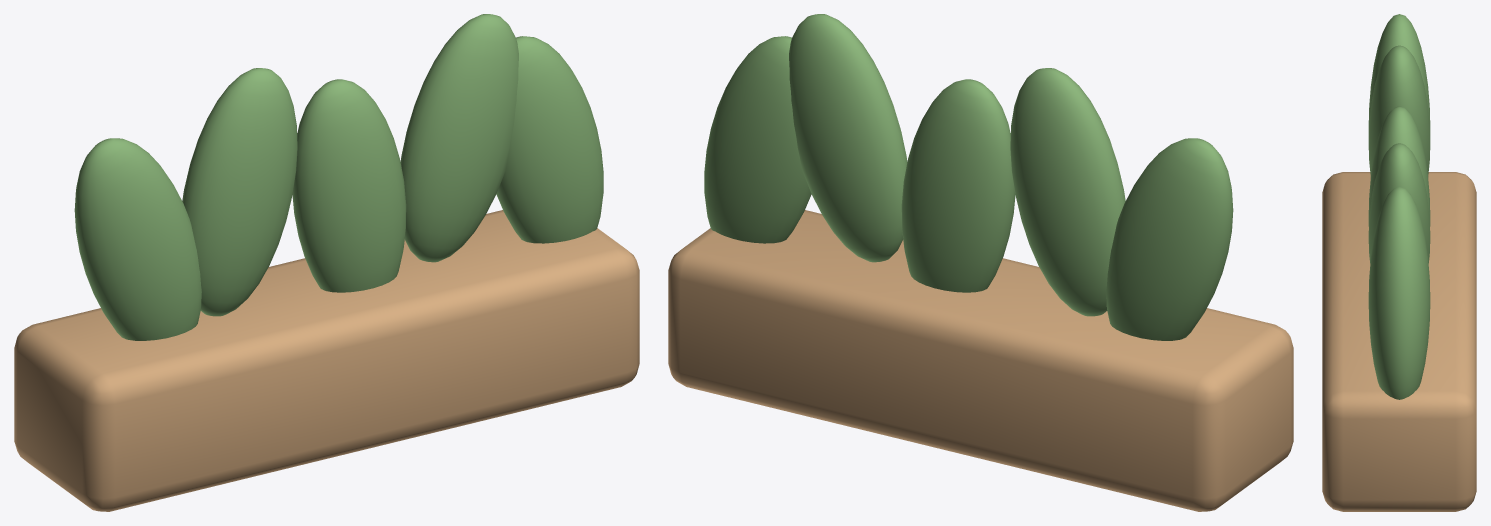
Rendered from planter-divider.glb.
3 renders of one model, left to right at view 1: azimuth 30°, elevation 25°; view 2: azimuth 150°, elevation 25°; view 3: azimuth 270°, elevation 25°, orthographic. The views are drawn at different scales.
Visible parts, largest first — view 1: planter, leaf-3, leaf-1, leaf-2, leaf-0, leaf-4; view 2: planter, leaf-3, leaf-1, leaf-2, leaf-0, leaf-4; view 3: planter, leaf-4, leaf-1, leaf-3, leaf-2, leaf-0.
Part boxes in pixels (x1=…): planter: x1=14, y1=210, x2=639, y2=511; leaf-3: x1=400, y1=14, x2=518, y2=262; leaf-1: x1=182, y1=68, x2=297, y2=316; leaf-2: x1=292, y1=79, x2=406, y2=292; leaf-0: x1=74, y1=138, x2=201, y2=340; leaf-4: x1=496, y1=36, x2=603, y2=243; planter: x1=668, y1=210, x2=1293, y2=511; leaf-3: x1=789, y1=14, x2=907, y2=262; leaf-1: x1=1010, y1=68, x2=1125, y2=316; leaf-2: x1=901, y1=79, x2=1015, y2=292; leaf-0: x1=1106, y1=138, x2=1233, y2=340; leaf-4: x1=704, y1=36, x2=811, y2=243; planter: x1=1322, y1=172, x2=1476, y2=511; leaf-4: x1=1368, y1=187, x2=1430, y2=399; leaf-1: x1=1368, y1=45, x2=1430, y2=176; leaf-3: x1=1368, y1=143, x2=1430, y2=262; leaf-2: x1=1368, y1=106, x2=1430, y2=226; leaf-0: x1=1368, y1=14, x2=1430, y2=135.
Bounding box in the file's own units: 1.8 × 1.15 × 0.5.
